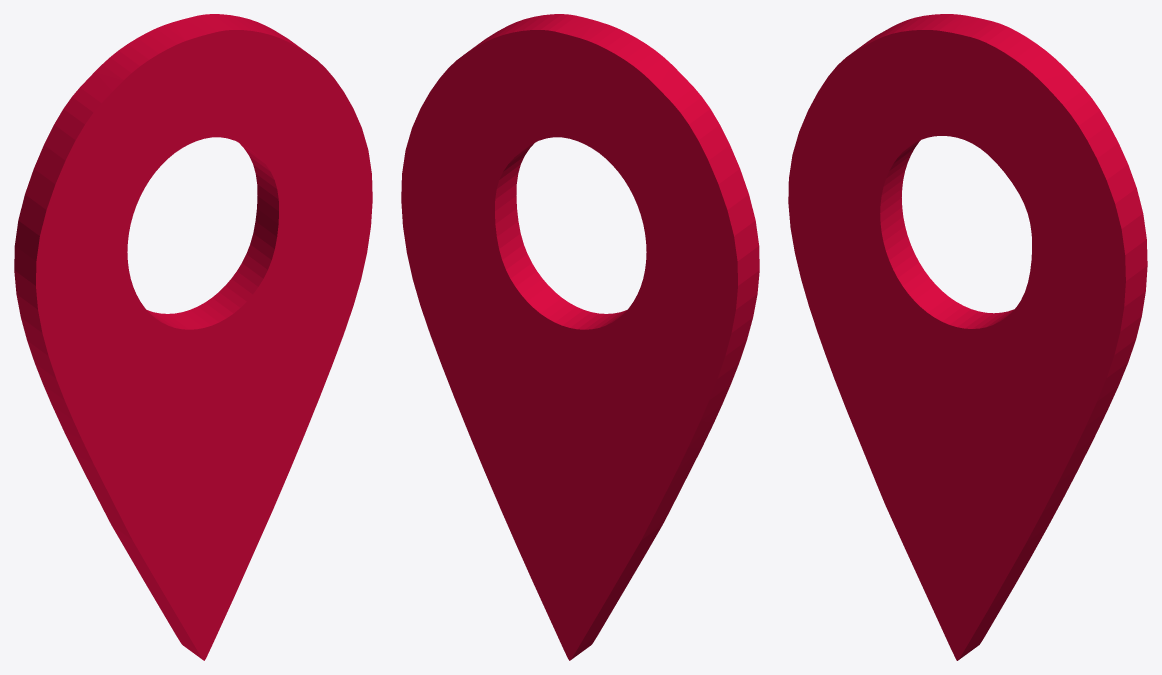
File: location_pin.glb
The picture shows the model from 3 angles, left to right: view 1: azimuth 30°, elevation 25°; view 2: azimuth 150°, elevation 25°; view 3: azimuth 330°, elevation 25°; orthographic projection.
Visible parts, largest first — view 1: Mesh_Mesh_head_geo.001_lambert2SG.001; view 2: Mesh_Mesh_head_geo.001_lambert2SG.001; view 3: Mesh_Mesh_head_geo.001_lambert2SG.001.
Boxes of the visible parts, x1,y1,x2,y2 form: Mesh_Mesh_head_geo.001_lambert2SG.001: [14, 14, 372, 660]; Mesh_Mesh_head_geo.001_lambert2SG.001: [401, 14, 759, 660]; Mesh_Mesh_head_geo.001_lambert2SG.001: [788, 14, 1147, 660].
Size of the model in its own units: 9 by 15.98 by 1.
